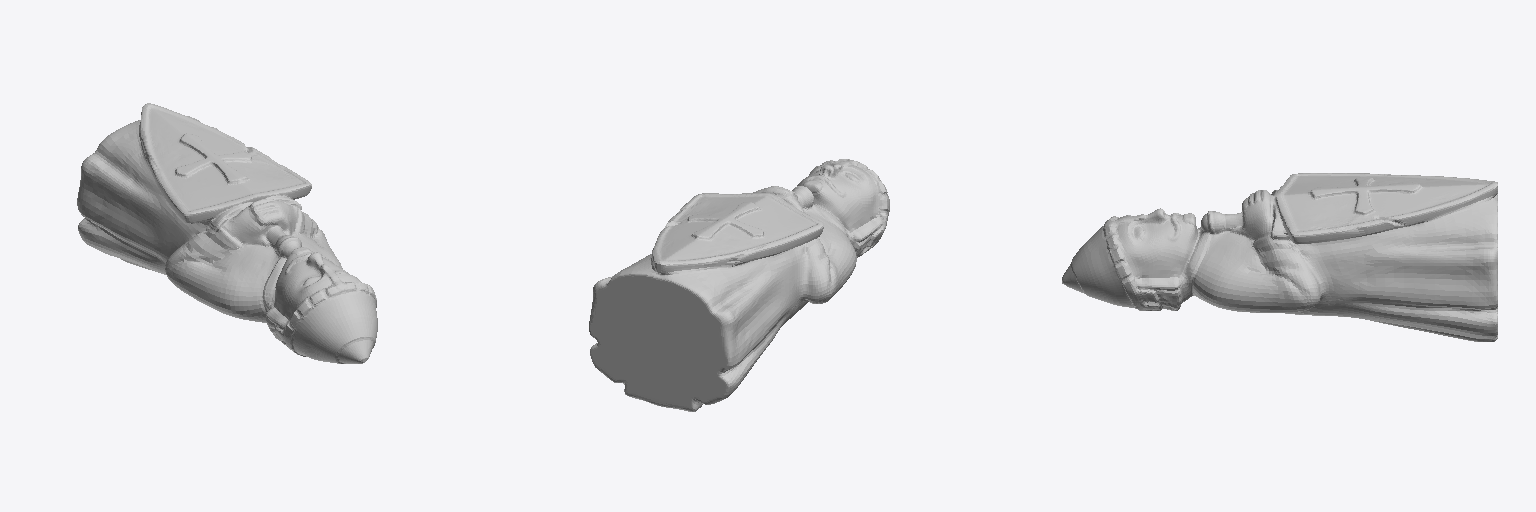
3 views of the same model, side by side, from view 1: azimuth 30°, elevation 25°; view 2: azimuth 150°, elevation 25°; view 3: azimuth 270°, elevation 25° (orthographic).
Visible parts, largest first — view 1: 12942_Stone_Chess_Bishop_Side_A; view 2: 12942_Stone_Chess_Bishop_Side_A; view 3: 12942_Stone_Chess_Bishop_Side_A.
Boxes of the visible parts, box(x1,y1,x2,y2) form: 12942_Stone_Chess_Bishop_Side_A: box(77, 103, 377, 363); 12942_Stone_Chess_Bishop_Side_A: box(589, 159, 889, 411); 12942_Stone_Chess_Bishop_Side_A: box(1062, 173, 1497, 341).
Size of the model in its own units: 3.89 by 3.59 by 9.68.